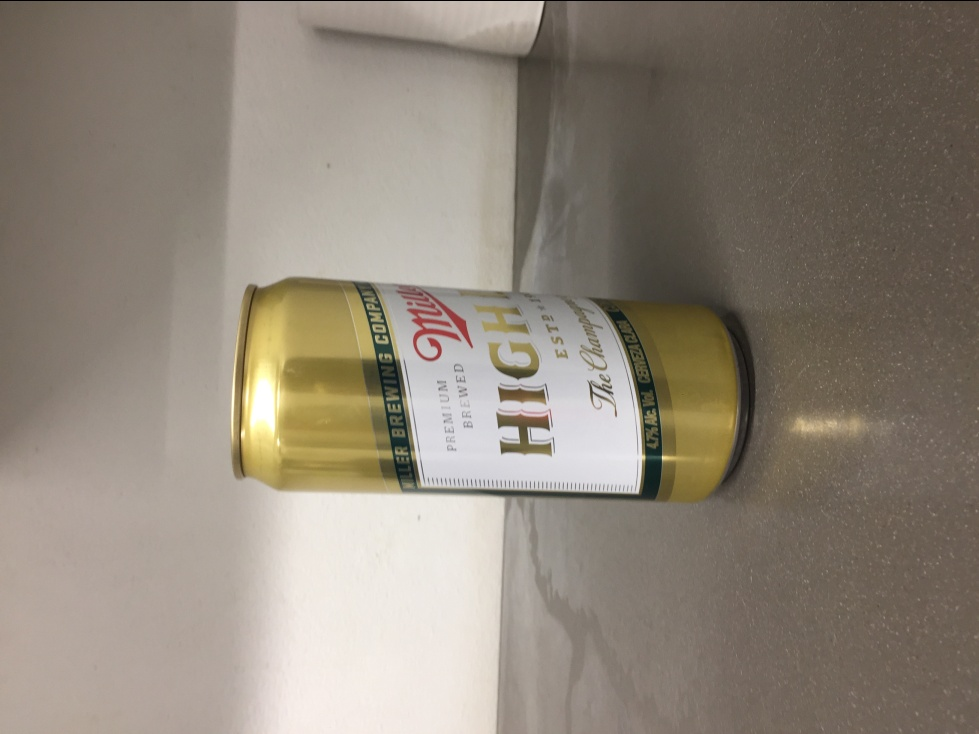miller: (225, 269, 752, 509)
